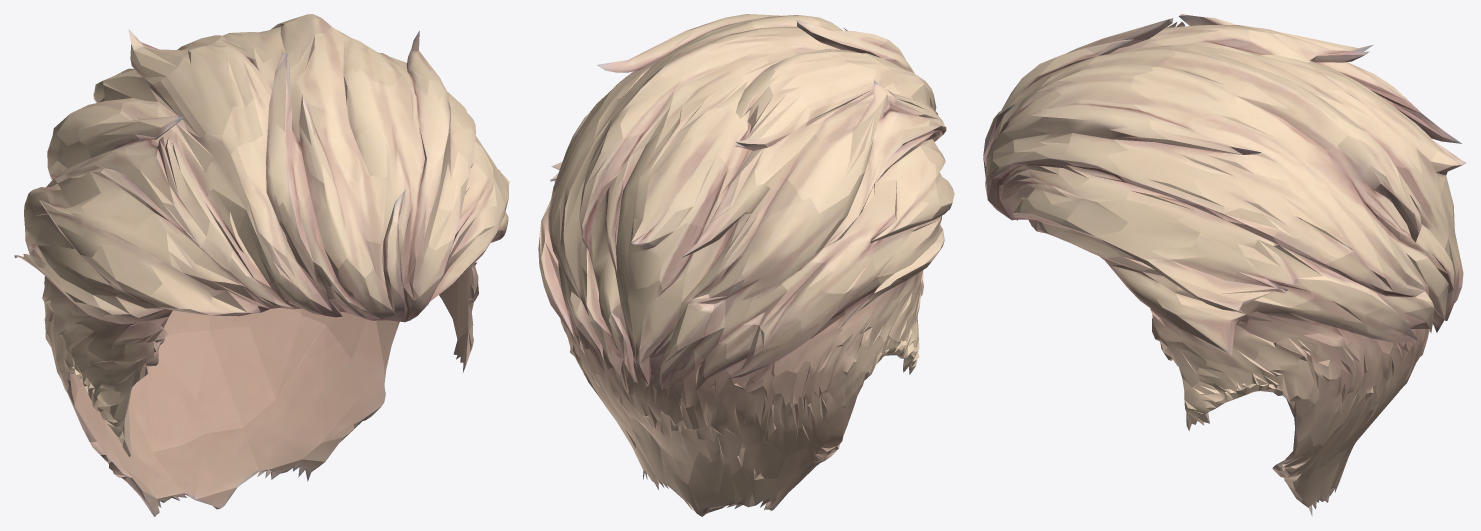
The model's file is fennal_m-cotes-rases.glb.
3 renders of one model, left to right at view 1: azimuth 30°, elevation 25°; view 2: azimuth 150°, elevation 25°; view 3: azimuth 270°, elevation 25°, orthographic. The views are drawn at different scales.
Parts seen in each view (by area): view 1: geometry_0; view 2: geometry_0; view 3: geometry_0.
Part boxes in pixels (bbox=[...]): geometry_0: bbox=[14, 14, 509, 516]; geometry_0: bbox=[538, 14, 954, 516]; geometry_0: bbox=[983, 14, 1466, 516].
Bounding box in the file's own units: 1.66 × 1.9 × 1.78.
1 material, 1 textured.
